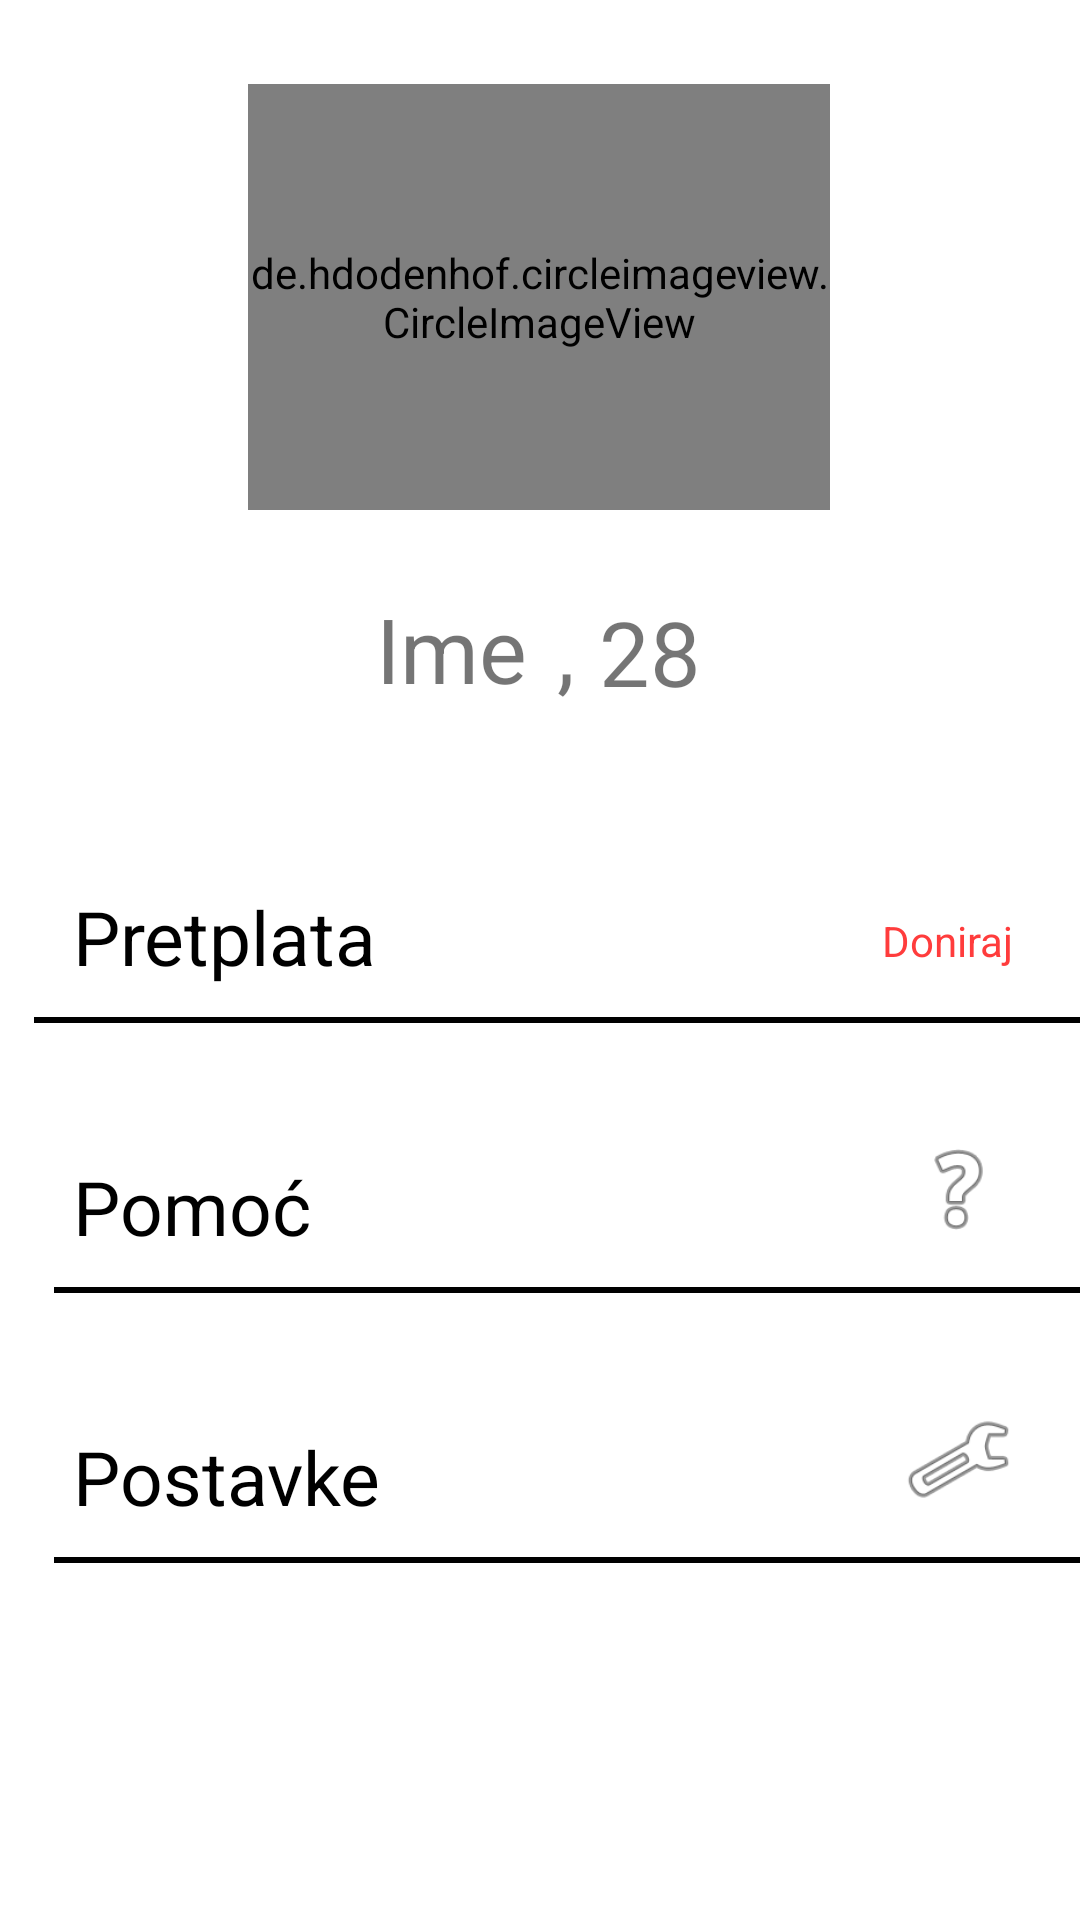

Named icons in this screenshot (1080px x 1920px) and their bounding boxes, (x1, y1, x2, y2):
help: (934, 1150, 983, 1229)
manage: (908, 1421, 1009, 1498)
